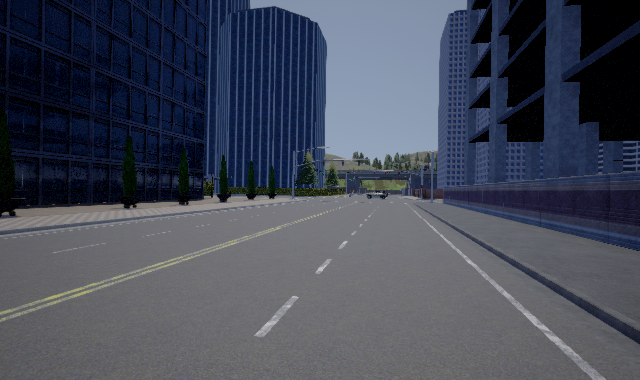vehicle: (366, 188, 387, 199)
